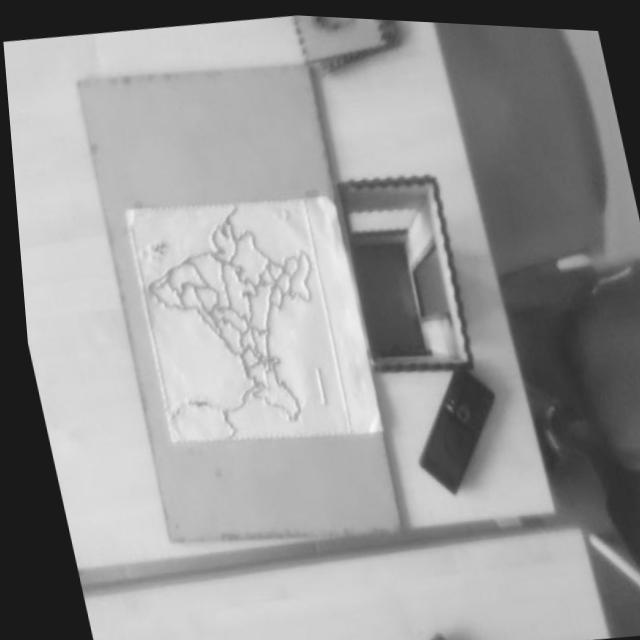map: (125, 174, 351, 470)
